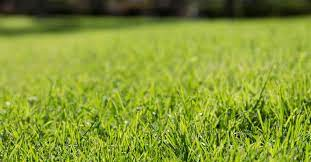grass: (2, 64, 310, 161)
